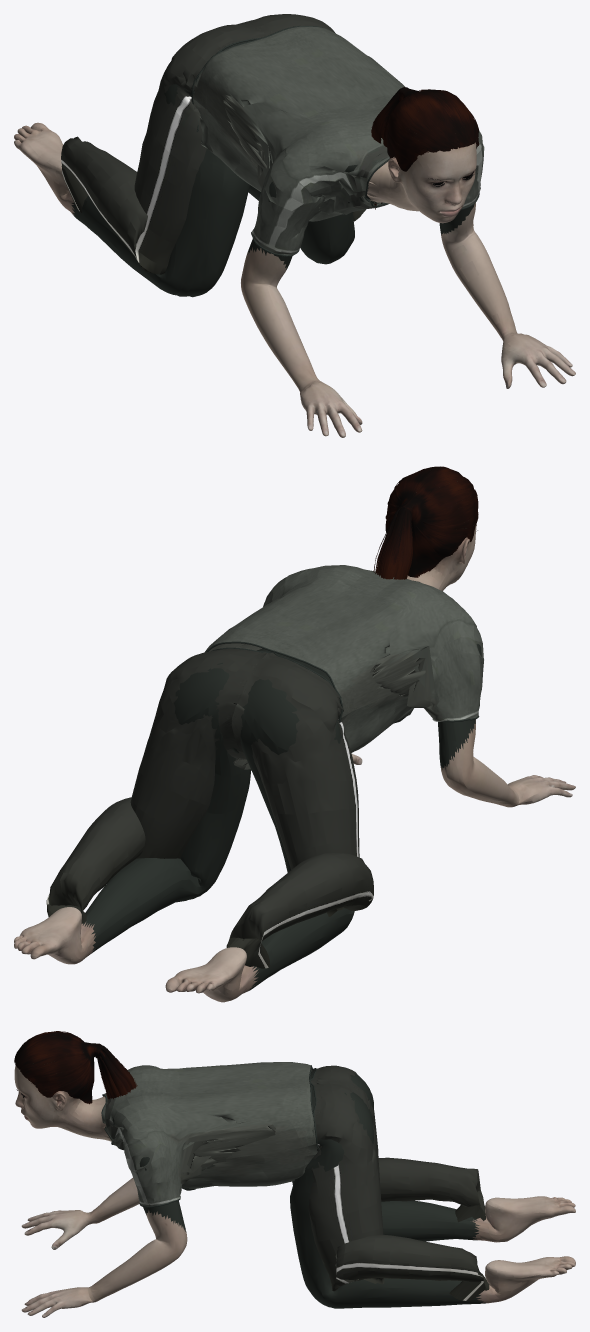
File: basement-woman.glb
The picture shows the model from 3 angles, top to bottom: view 1: azimuth 30°, elevation 25°; view 2: azimuth 150°, elevation 25°; view 3: azimuth 270°, elevation 25°; orthographic projection. The views are drawn at different scales.
Visible parts, largest first — view 1: female_sportsuit01, base, basement-cloth-lining, ponytail01; view 2: female_sportsuit01, basement-cloth-lining, base, ponytail01; view 3: female_sportsuit01, base, basement-cloth-lining, ponytail01.
Boxes of the visible parts, left/top/right/bottom form: female_sportsuit01: left=61, top=14, right=484, bottom=274; base: left=14, top=122, right=575, bottom=437; basement-cloth-lining: left=71, top=15, right=474, bottom=297; ponytail01: left=371, top=87, right=479, bottom=209; female_sportsuit01: left=46, top=565, right=483, bottom=968; basement-cloth-lining: left=82, top=644, right=481, bottom=991; base: left=14, top=524, right=575, bottom=1002; ponytail01: left=373, top=466, right=478, bottom=579; female_sportsuit01: left=102, top=1062, right=489, bottom=1300; base: left=14, top=1066, right=575, bottom=1317; basement-cloth-lining: left=112, top=1070, right=485, bottom=1308; ponytail01: left=14, top=1031, right=137, bottom=1104.
Size of the model in its own units: 0.5386 by 0.6107 by 1.27.
Materials: 9 (7 with a texture image).
